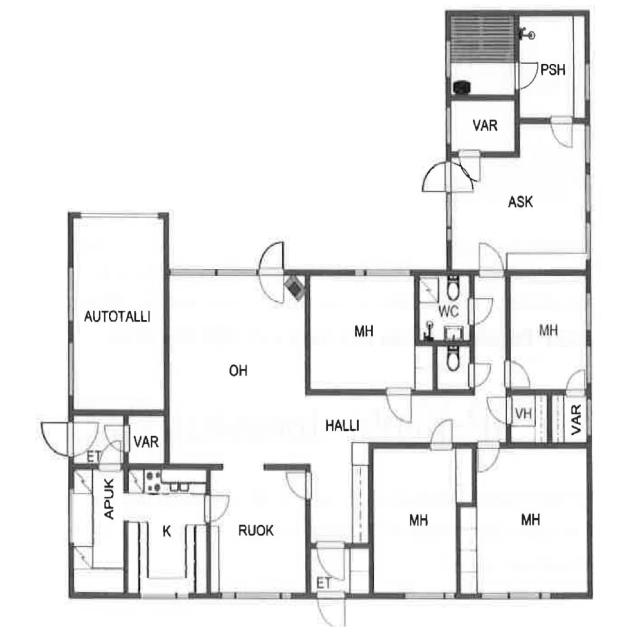door: (256, 241, 292, 310), (37, 415, 80, 460), (314, 591, 347, 631), (453, 150, 485, 190), (384, 384, 414, 426), (200, 490, 234, 527), (314, 541, 346, 580), (476, 239, 505, 278), (418, 160, 450, 194), (284, 467, 314, 503), (464, 295, 496, 328), (428, 417, 456, 451), (484, 392, 512, 426), (475, 439, 501, 475), (513, 58, 541, 91), (503, 358, 532, 389), (549, 116, 575, 150), (104, 422, 130, 456), (99, 439, 127, 469), (466, 359, 493, 390), (564, 367, 588, 397)
window: (168, 260, 257, 282), (578, 164, 597, 266), (218, 586, 295, 606), (77, 205, 162, 223), (480, 587, 557, 605), (350, 263, 414, 282), (62, 260, 78, 332), (398, 587, 458, 605), (62, 338, 78, 404), (63, 483, 79, 548), (132, 588, 192, 604), (572, 351, 593, 396), (581, 286, 596, 338), (442, 194, 456, 247), (583, 341, 596, 387), (442, 35, 454, 83), (442, 103, 454, 150), (584, 396, 595, 439), (582, 56, 592, 101), (582, 120, 592, 164)
zone: (166, 273, 304, 466), (450, 124, 587, 274), (462, 444, 593, 596), (69, 212, 166, 414), (372, 442, 463, 598), (308, 271, 421, 394), (209, 466, 309, 597), (122, 465, 211, 601), (506, 272, 590, 392), (516, 11, 587, 121), (70, 464, 126, 596), (446, 15, 517, 94), (448, 96, 519, 154), (416, 272, 473, 342), (548, 391, 589, 446), (127, 412, 166, 466), (434, 343, 474, 392)
